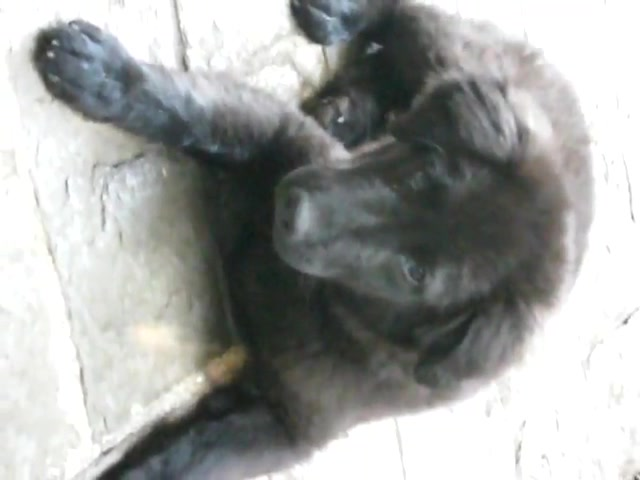dog: (33, 1, 599, 480)
